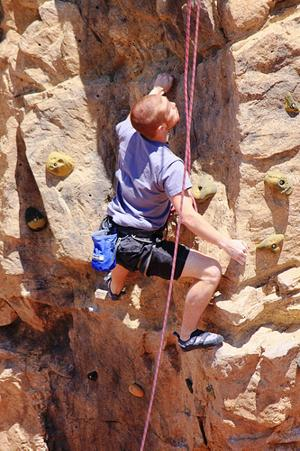person: (91, 69, 248, 351)
